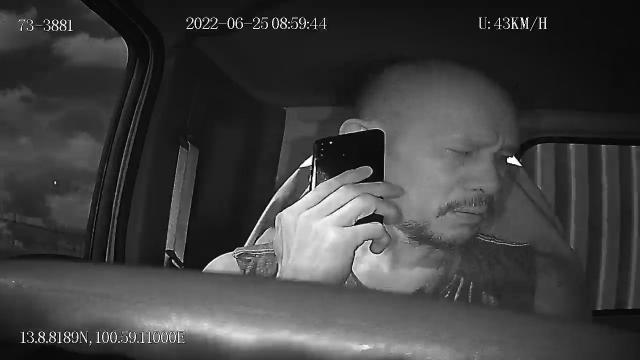PhoneUse: (311, 127, 387, 242)
